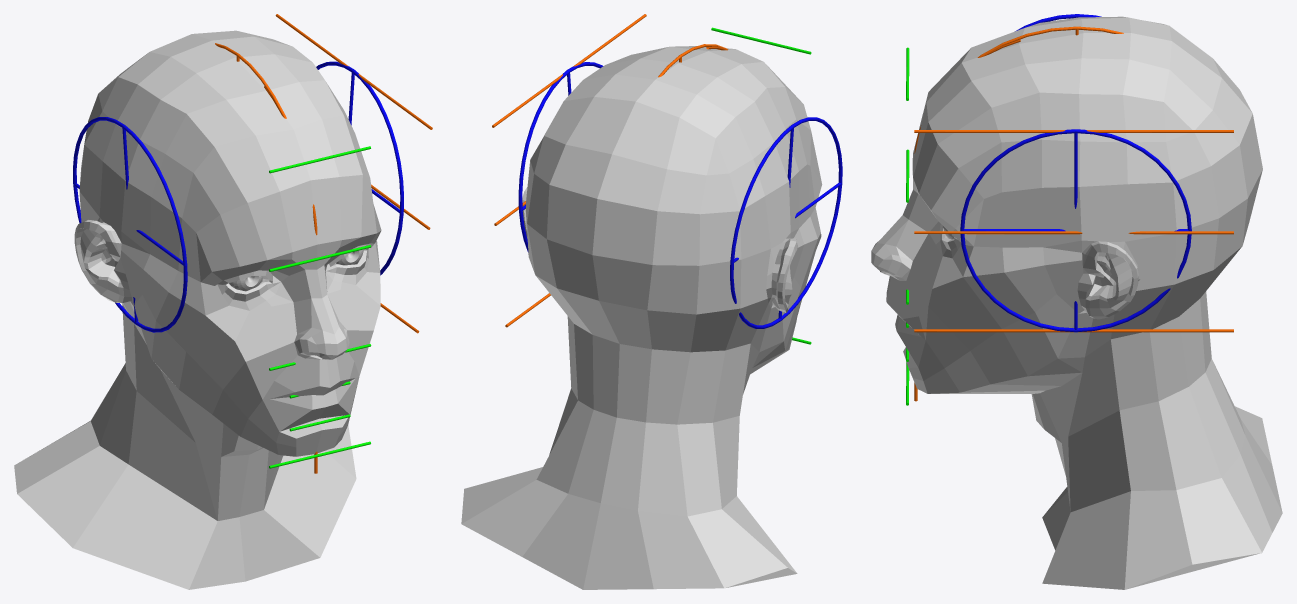
3 renders of one model, left to right at view 1: azimuth 30°, elevation 25°; view 2: azimuth 150°, elevation 25°; view 3: azimuth 270°, elevation 25°, orthographic. The views are drawn at different scales.
Parts seen in each view (by area): view 1: Model, Right_Side_Plane_Guide, Left_Side_Plane_Guide, Side_Plane_Horizontal_Top_Guide; view 2: Model, Right_Side_Plane_Guide, Left_Side_Plane_Guide, Side_Plane_Horizontal_Top_Guide; view 3: Model, Left_Side_Plane_Guide, Side_Plane_Horizontal_Bottom_Guide, Side_Plane_Horizontal_Middle_Guide, Side_Plane_Horizontal_Top_Guide.
Boxes of the visible parts, left/top/right/bottom form: Model: left=14, top=30, right=381, bottom=589; Right_Side_Plane_Guide: left=73, top=117, right=187, bottom=332; Left_Side_Plane_Guide: left=316, top=61, right=403, bottom=275; Side_Plane_Horizontal_Top_Guide: left=275, top=14, right=432, bottom=129; Model: left=461, top=46, right=822, bottom=589; Right_Side_Plane_Guide: left=730, top=117, right=842, bottom=328; Left_Side_Plane_Guide: left=518, top=62, right=603, bottom=252; Side_Plane_Horizontal_Top_Guide: left=492, top=14, right=646, bottom=127; Model: left=871, top=16, right=1282, bottom=589; Left_Side_Plane_Guide: left=960, top=129, right=1191, bottom=332; Side_Plane_Horizontal_Bottom_Guide: left=914, top=329, right=1233, bottom=332; Side_Plane_Horizontal_Middle_Guide: left=914, top=231, right=1233, bottom=234; Side_Plane_Horizontal_Top_Guide: left=914, top=130, right=1233, bottom=132.
Bounding box in the file's own units: 6.28 × 9.51 × 6.58.
